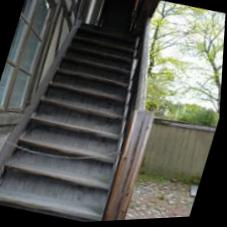Bench: (0, 35, 156, 225)
